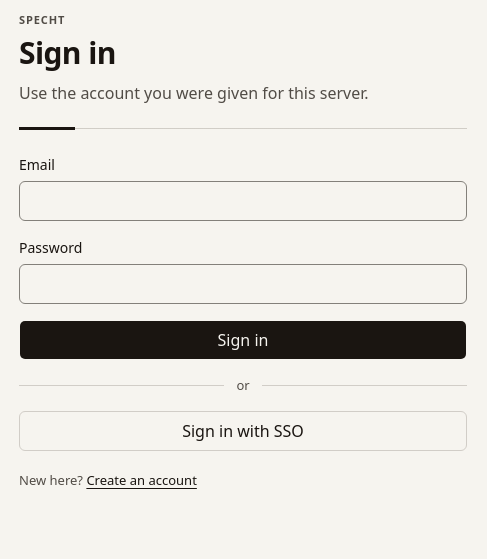
Test case: Login › shows generic error on network failure
The image size is (487, 559).
Type "test@test.com" into the field labelled "Email" at x=243, y=201, box [19,181,467,221]
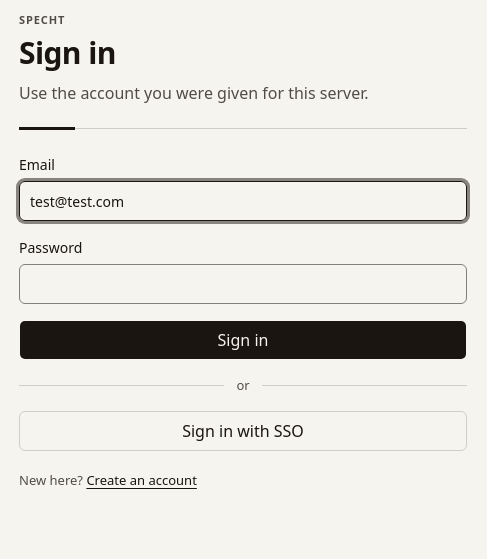
Type "test" into the password field labelled "Password" at x=243, y=284, box [19,264,467,304]
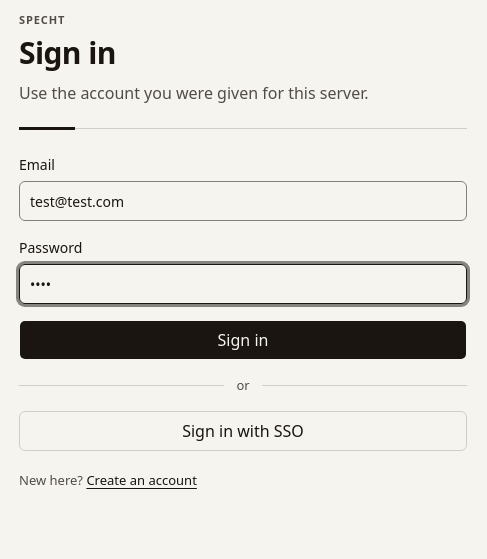
Click the button "Sign in" at x=243, y=340, box [19,320,467,360]
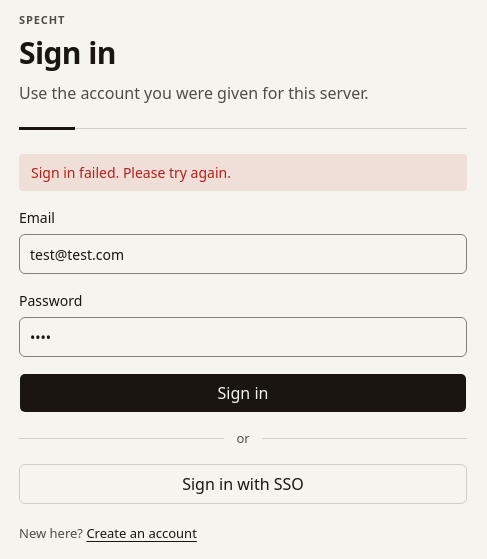
Expected: the text "Sign in failed. Please try again." is shown, [19,154,467,191]
